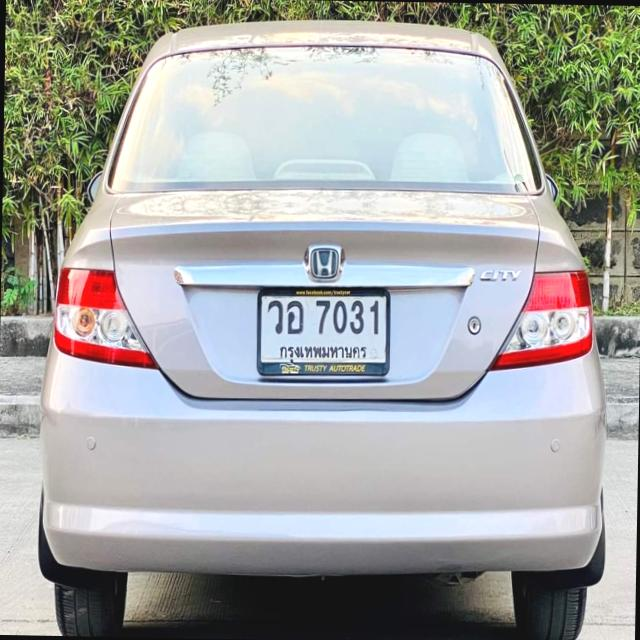license_plate: (254, 284, 392, 380)
